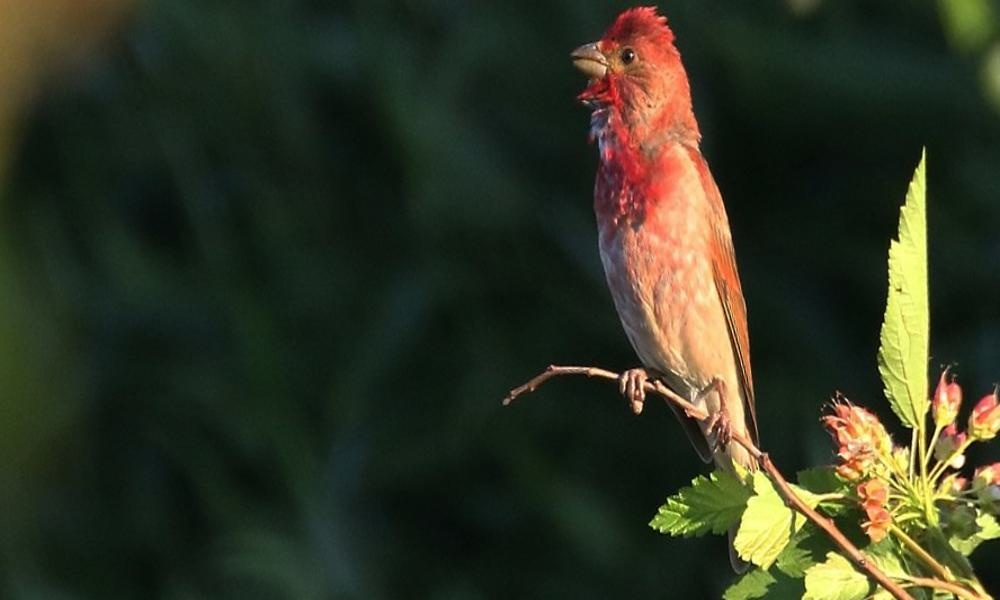rosefinch: (585, 19, 758, 450)
